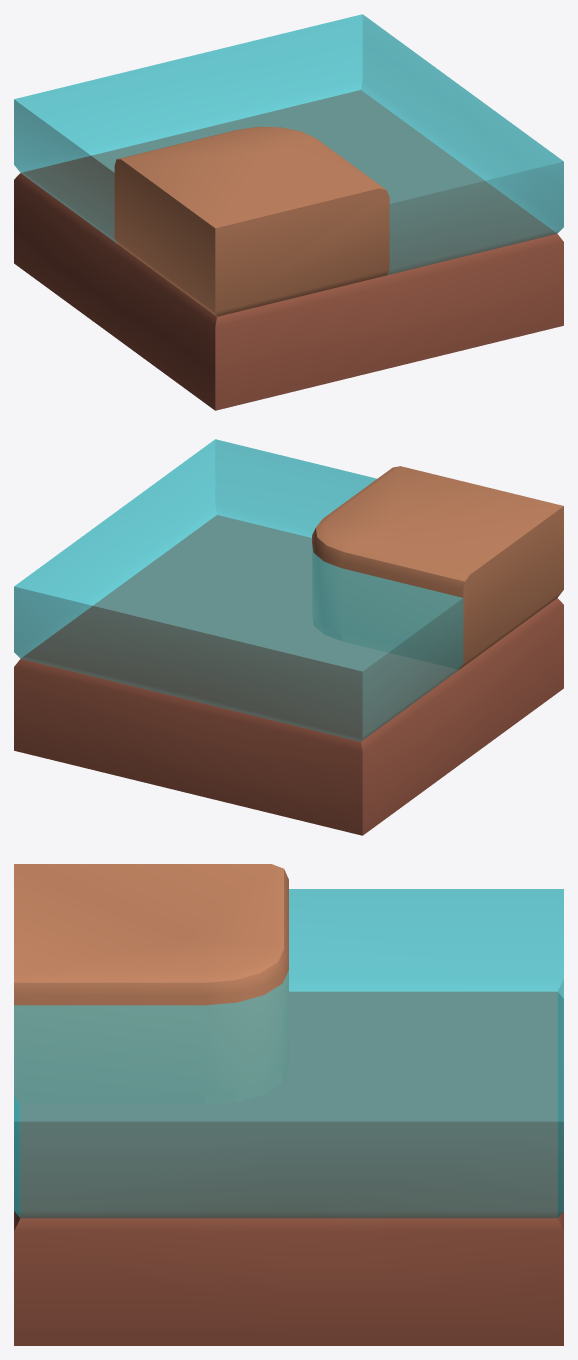
File: square_rock_waterOuterCorner.fbx
The picture shows the model from 3 angles, top to bottom: view 1: azimuth 30°, elevation 25°; view 2: azimuth 150°, elevation 25°; view 3: azimuth 270°, elevation 25°; orthographic projection. The views are drawn at different scales.
Parts seen in each view (by area): view 1: square_rock_waterOuterCorner; view 2: square_rock_waterOuterCorner; view 3: square_rock_waterOuterCorner.
Part boxes in pixels (bbox=[...]): square_rock_waterOuterCorner: bbox=[14, 14, 563, 410]; square_rock_waterOuterCorner: bbox=[14, 439, 563, 835]; square_rock_waterOuterCorner: bbox=[14, 864, 563, 1345].
Size of the model in its own units: 2 by 1 by 2.
